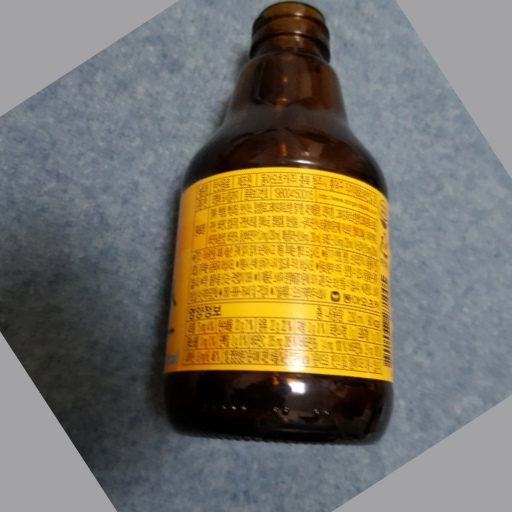Glass_3: (161, 1, 394, 444)
